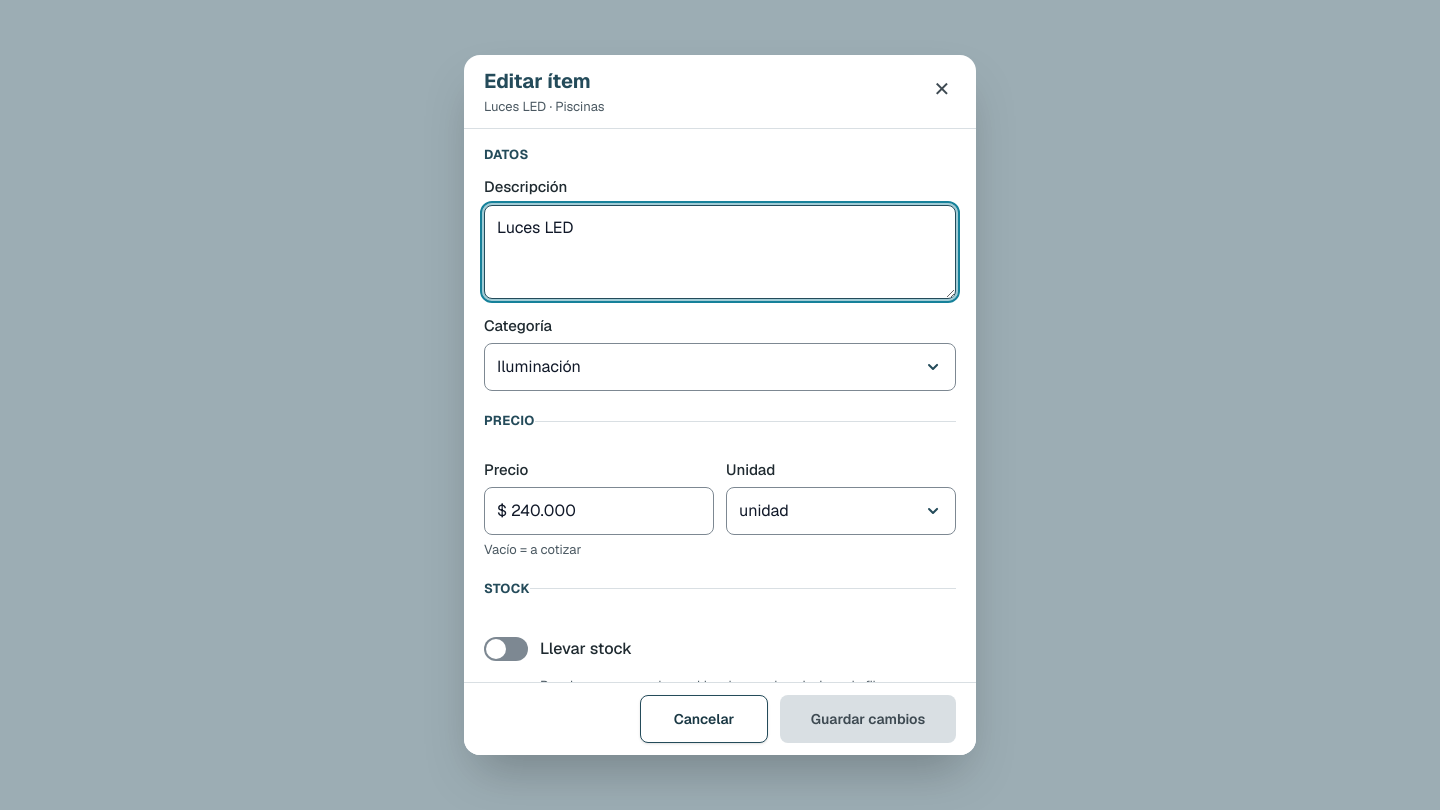
Test case: EditarItemModal › muestra el error de guardado y no cierra el modal
The image size is (1440, 810).
Check: the button "Guardar cambios" is disabled, box [780, 695, 956, 743]
Type " nueva" into the text box labelled "Descripción". click: [720, 252]
box: [484, 205, 956, 299]
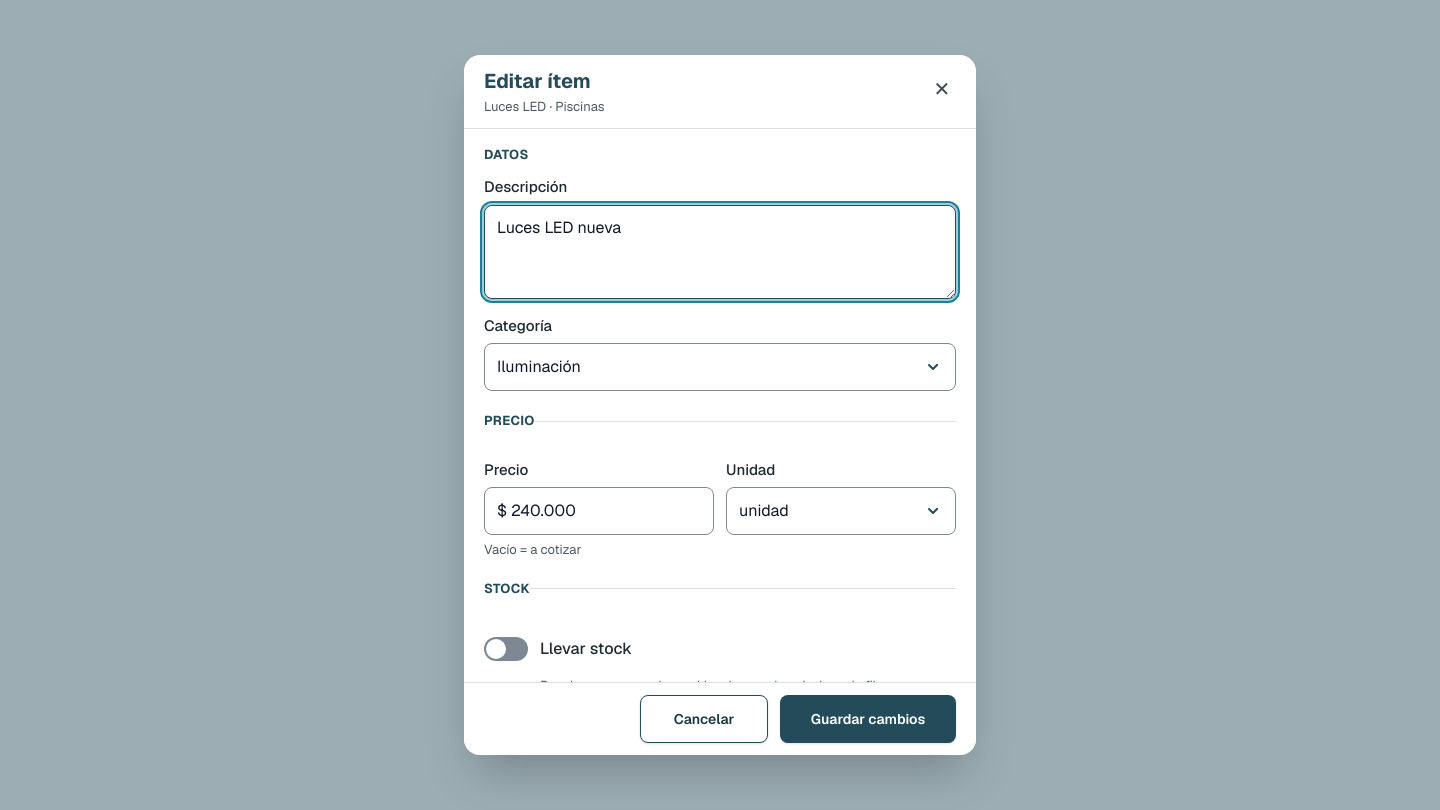
Click the button "Guardar cambios". click: [868, 719]
box: [780, 695, 956, 743]
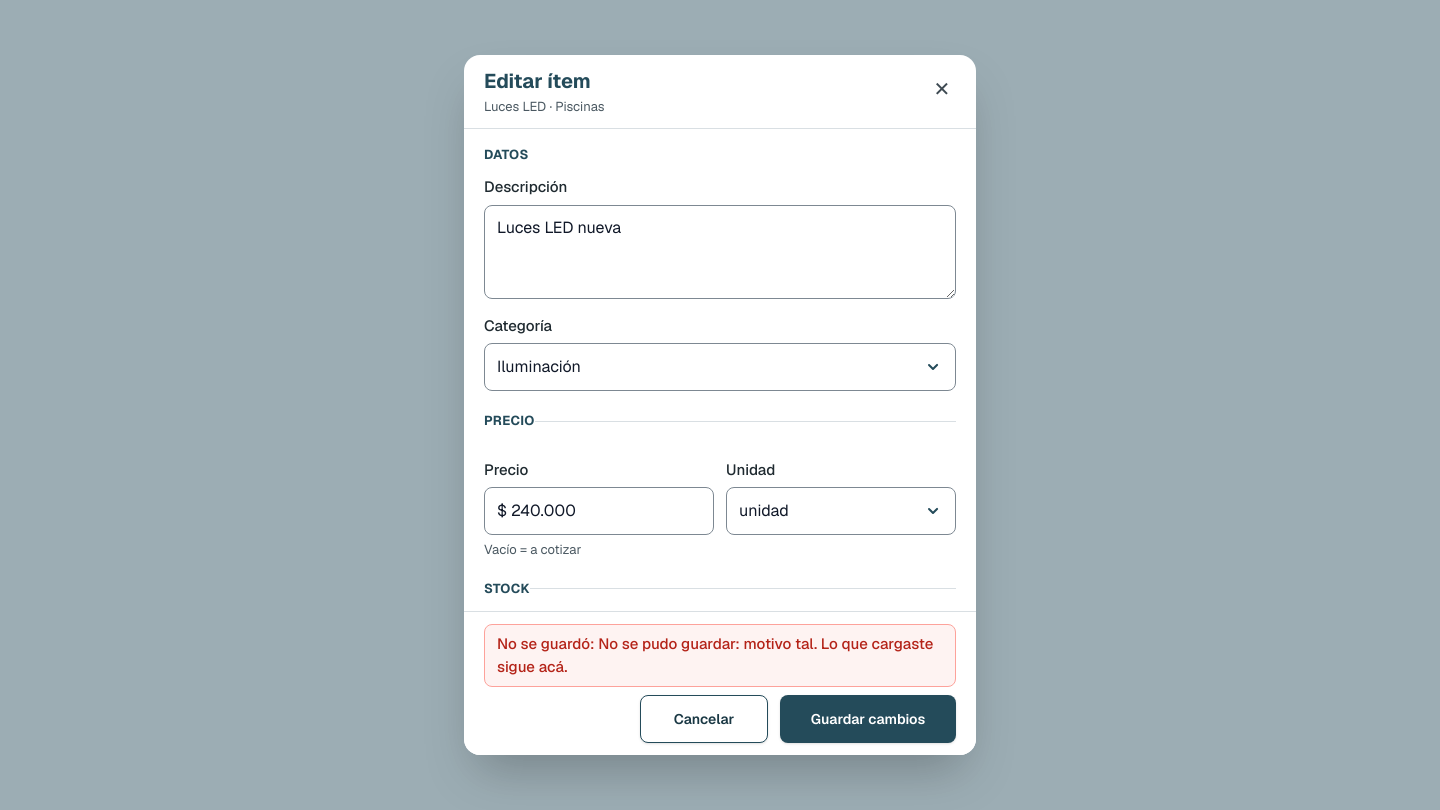
Check: the text "No se guardó: No se pudo guardar: motivo tal. Lo que cargaste sigue acá." is shown, box [484, 624, 956, 687]
